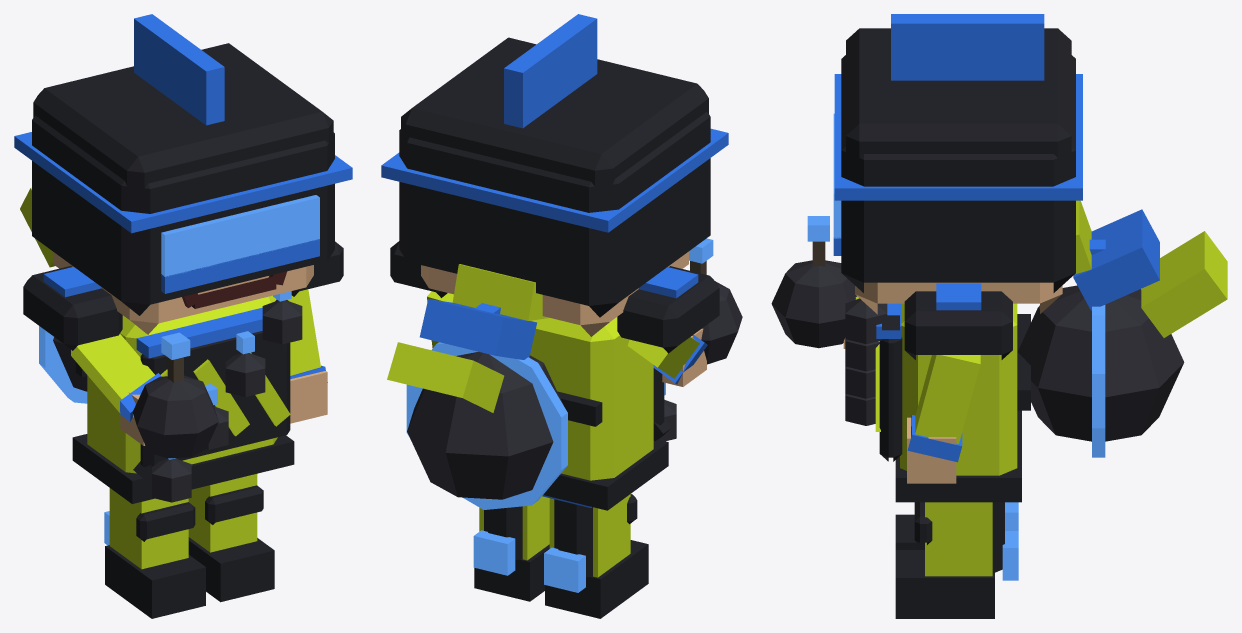
File: daredevil_super_rare.glb
3 views of the same model, side by side, from view 1: azimuth 30°, elevation 25°; view 2: azimuth 150°, elevation 25°; view 3: azimuth 270°, elevation 25° (orthographic). The views are drawn at different scales.
Parts seen in each view (by area): view 1: daredevil_super_rare_mesh; view 2: daredevil_super_rare_mesh; view 3: daredevil_super_rare_mesh.
Boxes of the visible parts, x1,y1,x2,y2 form: daredevil_super_rare_mesh: (14, 14, 352, 618); daredevil_super_rare_mesh: (381, 14, 742, 618); daredevil_super_rare_mesh: (771, 14, 1227, 618).
Size of the model in its own units: 0.7108 by 1.3 by 0.9452.
Materials: 2 (2 with a texture image).
